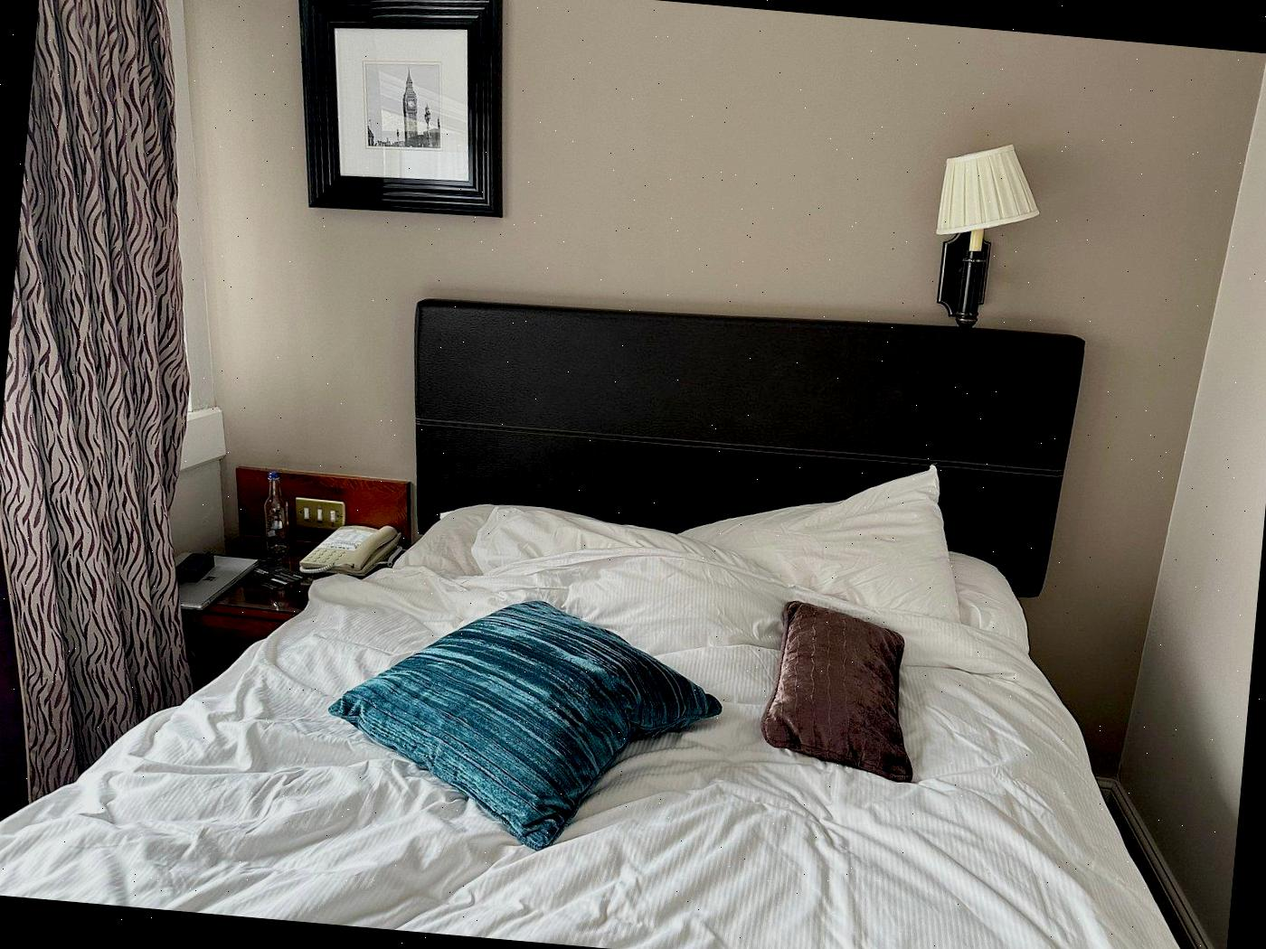Disorganized_pillow: (326, 545, 924, 852)
messy_bed: (108, 446, 1118, 949)
